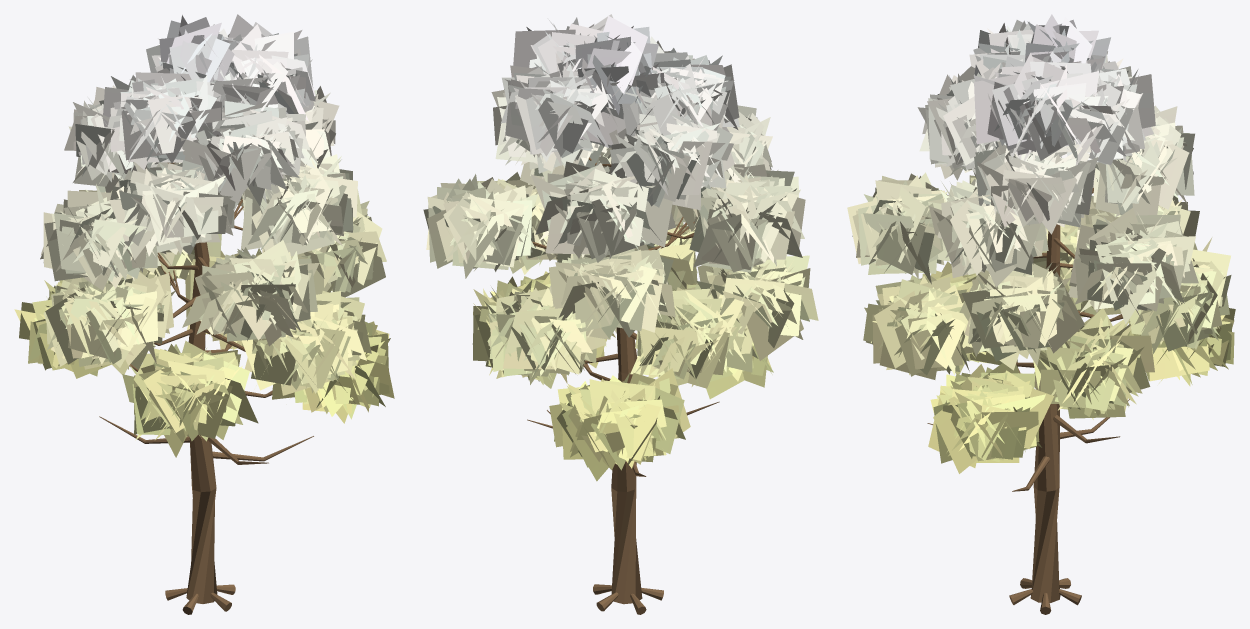
File: pine.glb
3 renders of one model, left to right at view 1: azimuth 30°, elevation 25°; view 2: azimuth 150°, elevation 25°; view 3: azimuth 270°, elevation 25°, orthographic.
Parts seen in each view (by area): view 1: Leaves.007, Branches.006; view 2: Leaves.007, Branches.006; view 3: Leaves.007, Branches.006.
Part boxes in pixels (left/top/right/bottom): Leaves.007: left=14, top=14, right=394, bottom=457; Branches.006: left=99, top=162, right=313, bottom=614; Leaves.007: left=423, top=14, right=818, bottom=481; Branches.006: left=527, top=157, right=719, bottom=614; Leaves.007: left=847, top=14, right=1235, bottom=473; Branches.006: left=927, top=188, right=1129, bottom=614.
Bounding box in the file's own units: 7.52 × 12.57 × 7.6.
Materials: 2 (1 with a texture image).
